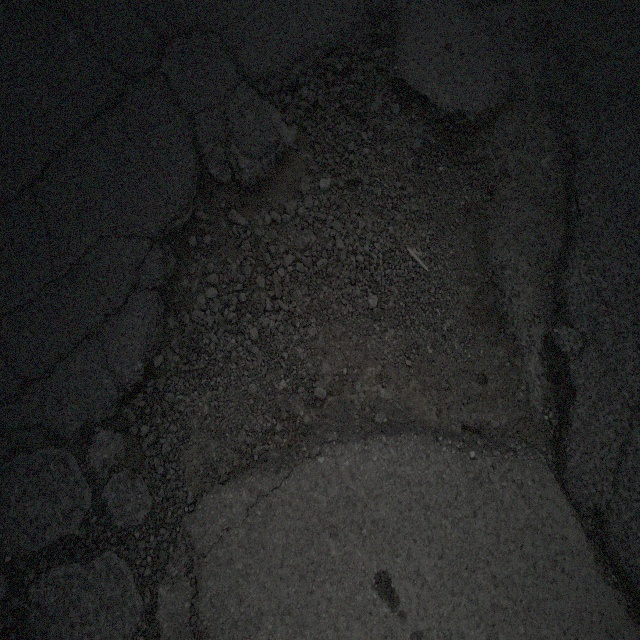pothole: (119, 35, 576, 506), (5, 19, 144, 444)
